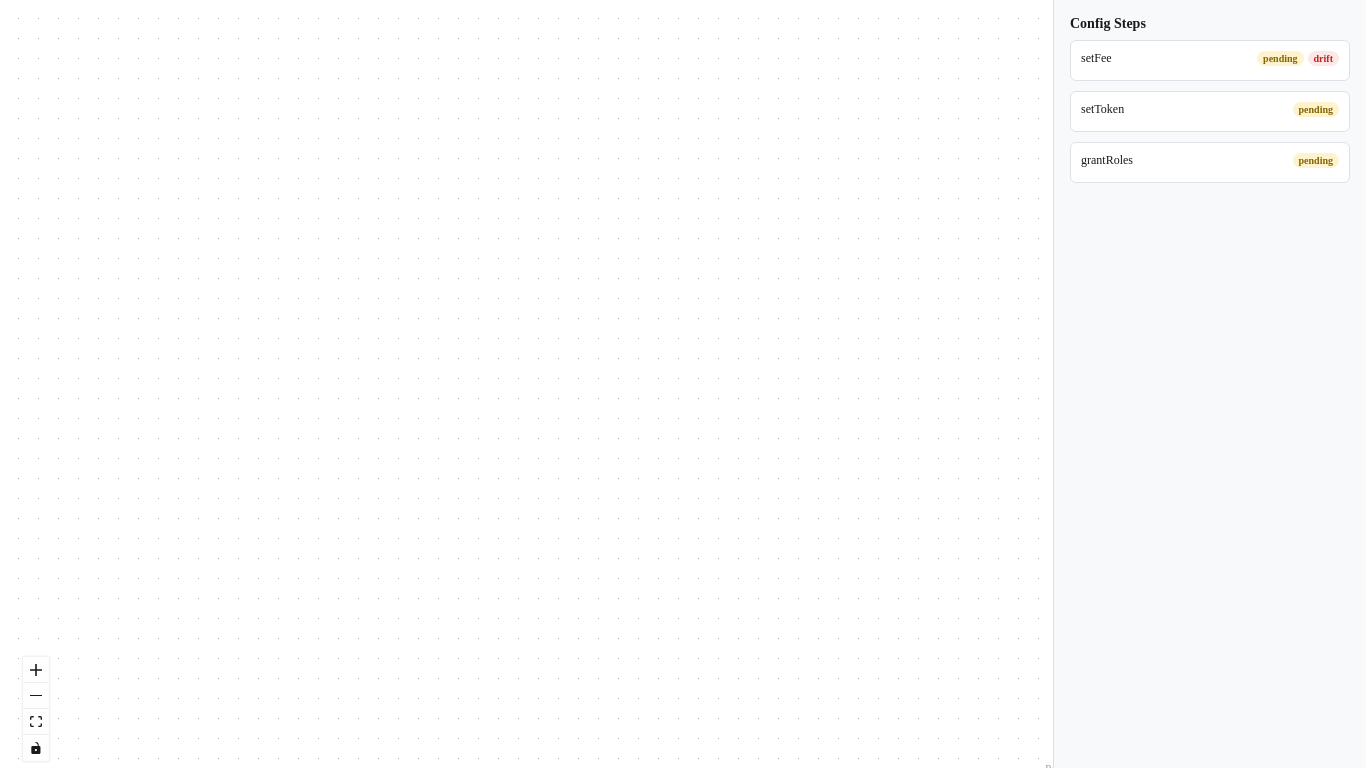
it: Inspector — drift detail panel › clicking the drift badge again collapses the detail panel
What coordinates should you click on to do the following:
click the button with test id "config-step-setFee-drift"
I would click on:
 (1323, 58)
Its box is [1308,51,1339,66].
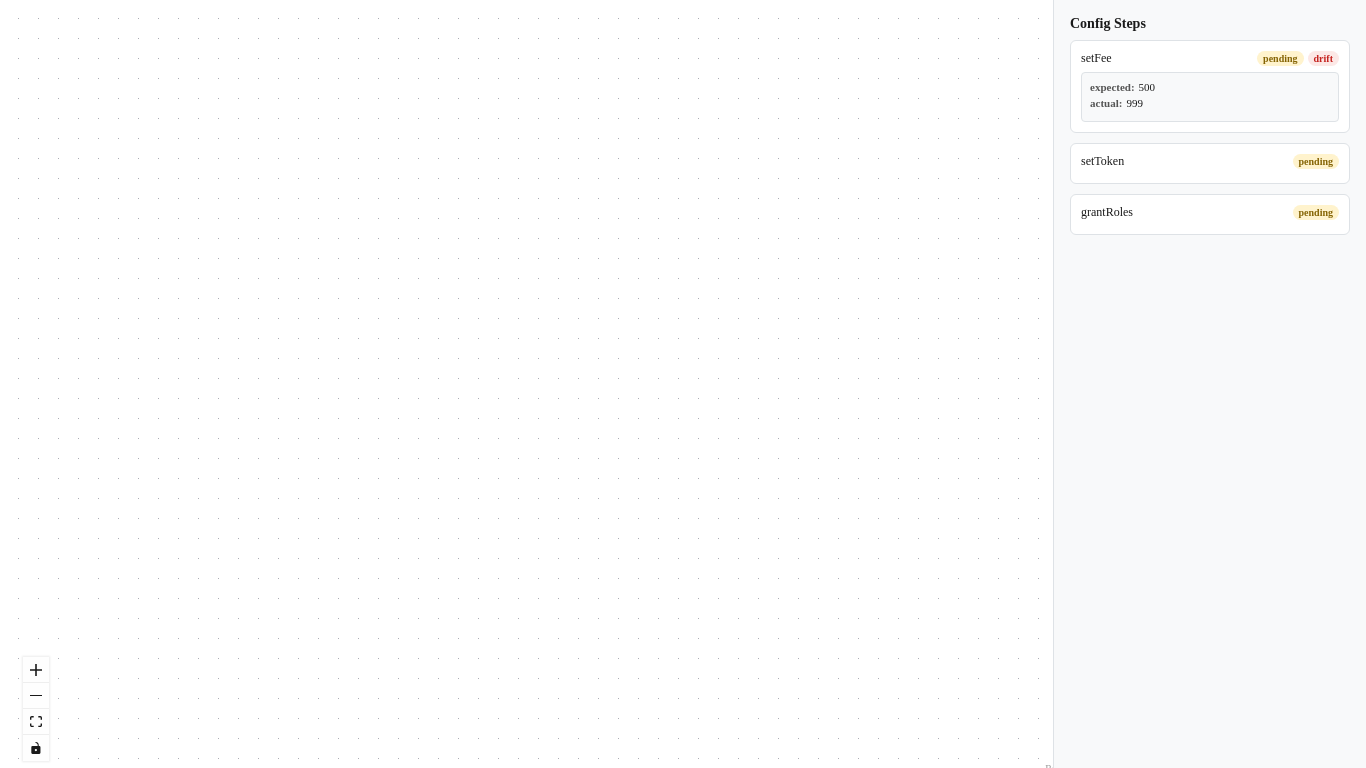
expect the element with test id "config-step-setFee-drift-detail" is shown: met, box [1081,72,1339,122]
What coordinates should you click on to do the following:
click the button with test id "config-step-setFee-drift"
I would click on:
 (1323, 58)
Its box is [1308,51,1339,66].
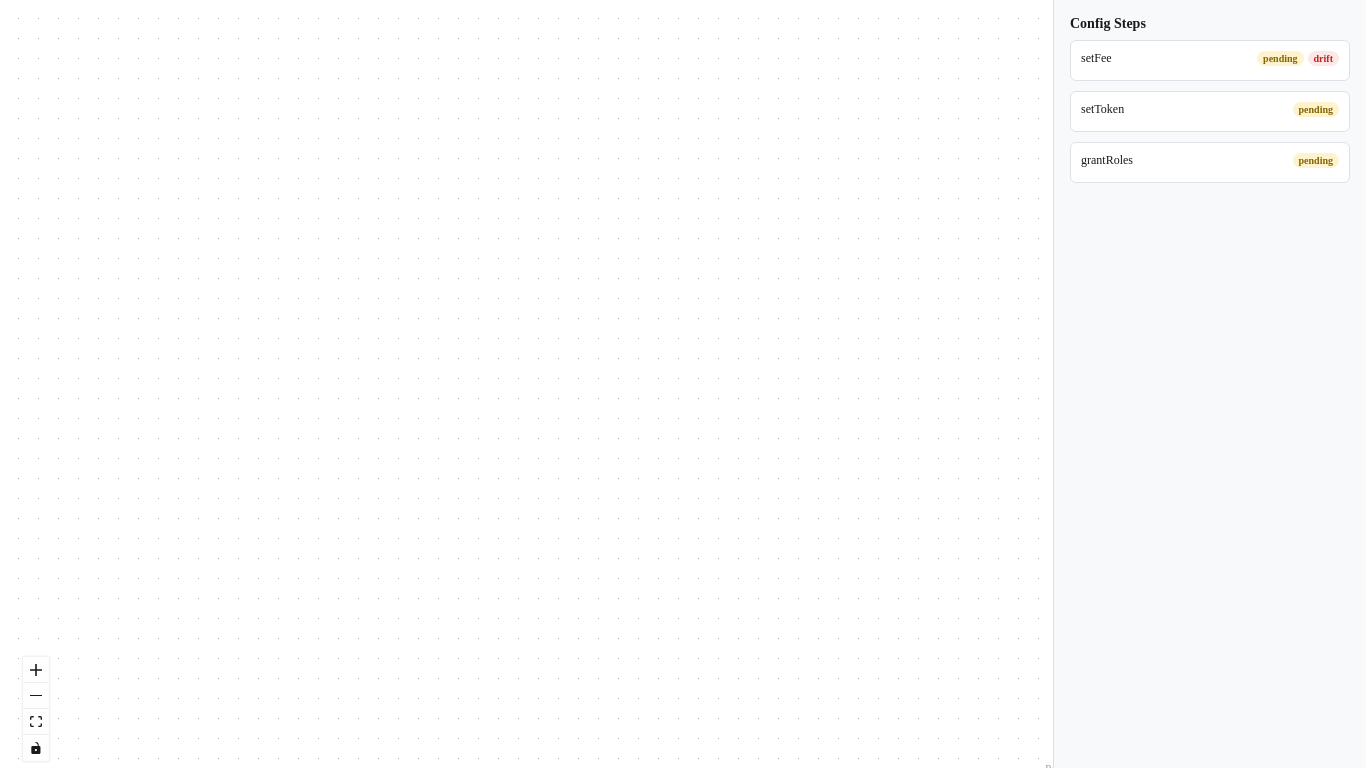
expect the element with test id "config-step-setFee-drift-detail" is gone: met
